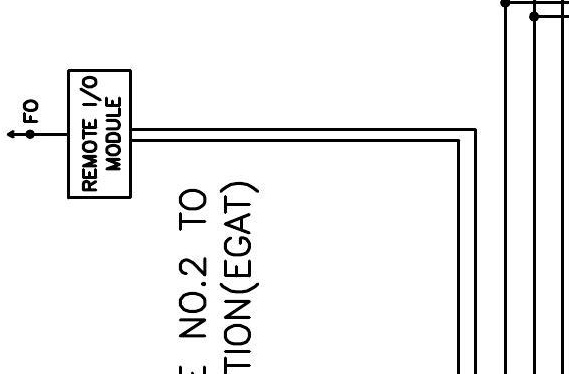remote_io_module: (67, 69, 132, 200)
